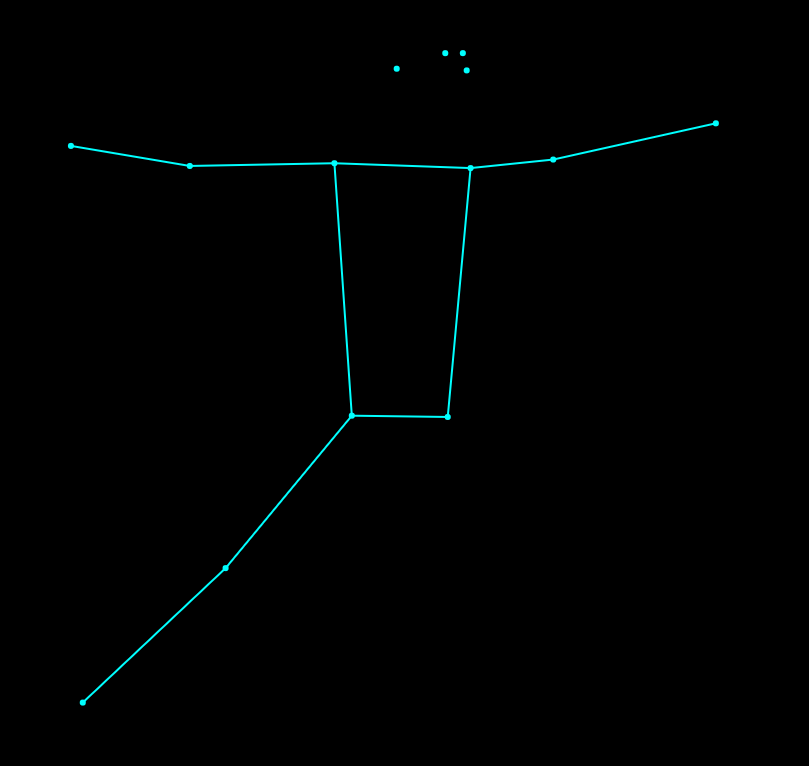warrior_2: (59, 33, 727, 711)
